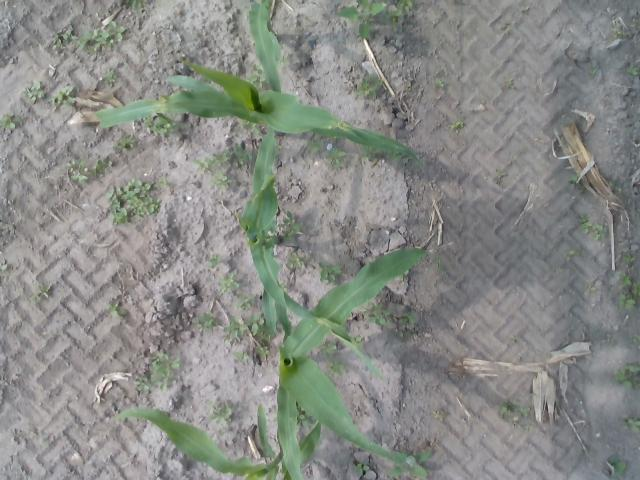Maize: (276, 247, 444, 480), (238, 128, 384, 378), (95, 60, 424, 169), (117, 403, 323, 480), (250, 0, 284, 96)
Weeds: (108, 174, 172, 222), (194, 142, 254, 193), (337, 0, 386, 44), (133, 350, 181, 391), (80, 20, 127, 56), (64, 154, 114, 182), (386, 450, 432, 478), (222, 312, 267, 340), (497, 398, 532, 431), (50, 24, 80, 58), (578, 211, 608, 243), (278, 210, 304, 244), (618, 272, 640, 312), (386, 1, 416, 30), (612, 362, 640, 392), (143, 116, 178, 138), (46, 85, 78, 109), (356, 72, 382, 100), (202, 398, 232, 422), (365, 300, 392, 324), (21, 80, 45, 107), (216, 270, 240, 295), (317, 261, 342, 285), (326, 146, 348, 172), (192, 312, 220, 331), (247, 65, 267, 91), (29, 284, 51, 304), (609, 454, 627, 478), (306, 137, 326, 158), (114, 131, 134, 152), (584, 322, 604, 343), (286, 252, 308, 270), (105, 300, 126, 318), (0, 111, 18, 132), (235, 120, 260, 135), (103, 66, 120, 88), (610, 18, 630, 36), (235, 293, 256, 310), (619, 418, 640, 435), (319, 338, 338, 356), (360, 145, 380, 161), (119, 0, 148, 11), (296, 407, 312, 425), (327, 361, 346, 376), (351, 462, 371, 476), (402, 310, 418, 326), (253, 344, 270, 359), (231, 348, 250, 361), (432, 408, 448, 422), (495, 169, 508, 186), (563, 250, 581, 262), (388, 150, 404, 163), (207, 253, 220, 269), (436, 78, 452, 89), (624, 66, 640, 76), (629, 333, 640, 347), (606, 332, 616, 347), (623, 252, 635, 264), (448, 121, 464, 130), (569, 173, 582, 184), (608, 182, 622, 192), (504, 77, 516, 88), (280, 57, 292, 68), (402, 329, 412, 342), (353, 336, 363, 348), (520, 5, 532, 14), (0, 260, 9, 271), (586, 285, 598, 293), (589, 68, 597, 80), (526, 391, 538, 398), (281, 283, 289, 293), (510, 333, 518, 342), (556, 267, 564, 275)
